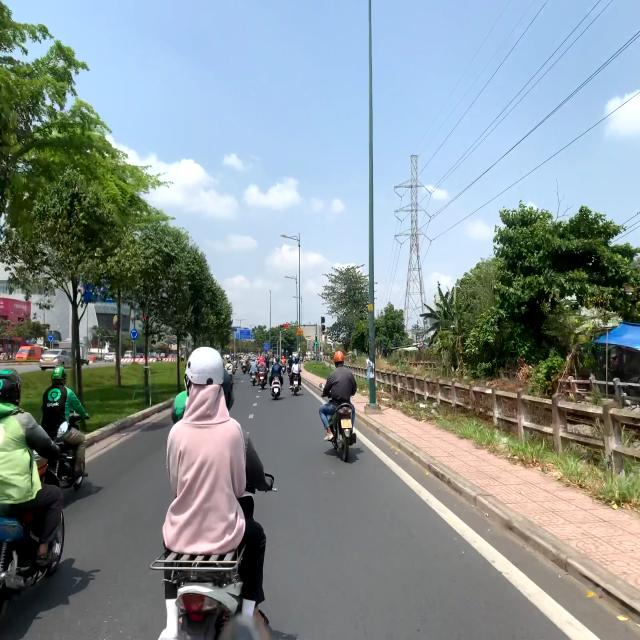R.303: (130, 329, 138, 339), (48, 334, 54, 342)
